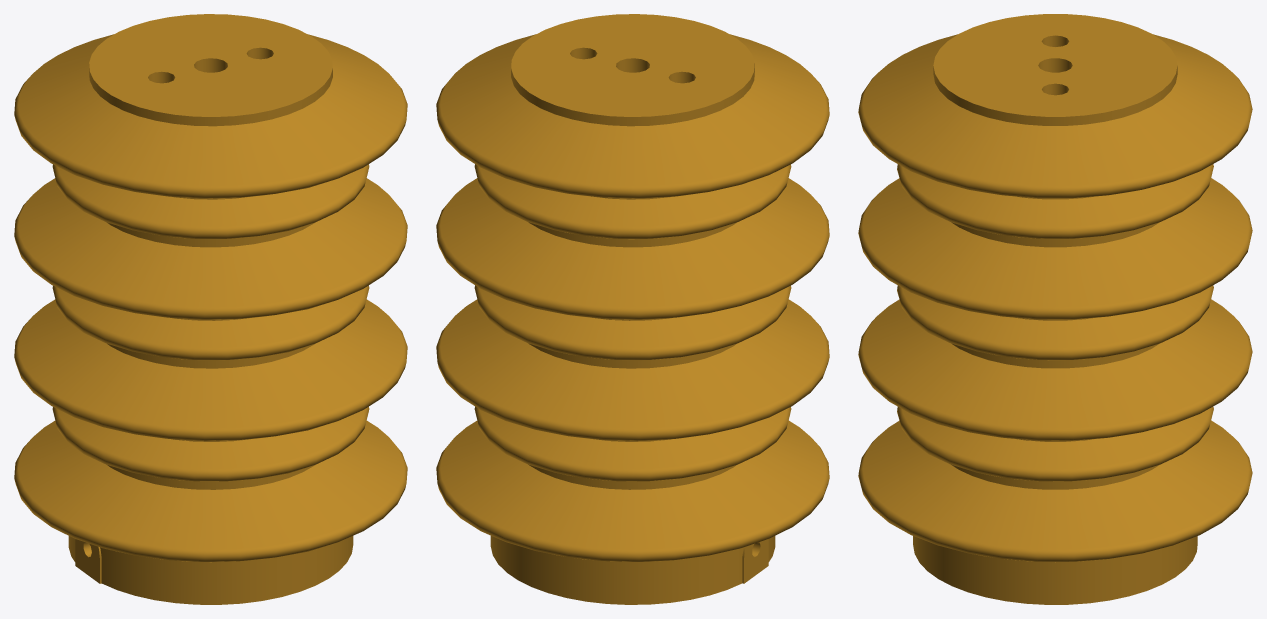
Rendered from 04.2_izolyator-emkostnoy-ie-10-95x130.glb.
3 views of the same model, side by side, from view 1: azimuth 30°, elevation 25°; view 2: azimuth 150°, elevation 25°; view 3: azimuth 270°, elevation 25° (orthographic).
Visible parts, largest first — view 1: 04.2_izolyator-emkostnoy-ie-10-95x130; view 2: 04.2_izolyator-emkostnoy-ie-10-95x130; view 3: 04.2_izolyator-emkostnoy-ie-10-95x130.
Boxes of the visible parts, <box> form: 04.2_izolyator-emkostnoy-ie-10-95x130: <box>14,14,407,604</box>; 04.2_izolyator-emkostnoy-ie-10-95x130: <box>436,14,829,604</box>; 04.2_izolyator-emkostnoy-ie-10-95x130: <box>858,14,1252,604</box>.
Bounding box in the file's own units: 96.48 × 130 × 96.89.
